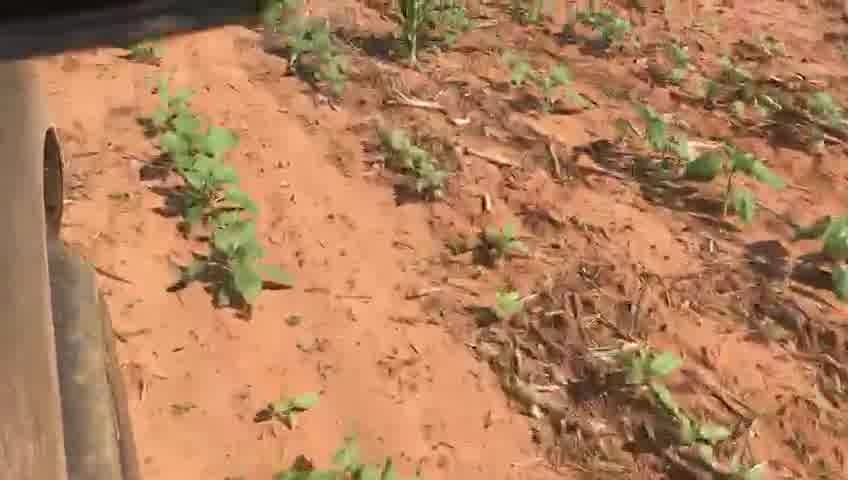sunflower: (196, 221, 293, 313), (691, 140, 779, 222), (147, 94, 244, 162), (164, 158, 262, 224), (508, 55, 584, 114), (277, 444, 408, 477), (628, 102, 696, 162), (299, 42, 358, 100), (621, 345, 684, 396), (260, 391, 323, 438), (383, 130, 440, 171), (817, 209, 840, 302), (403, 161, 452, 194), (484, 221, 519, 261)
